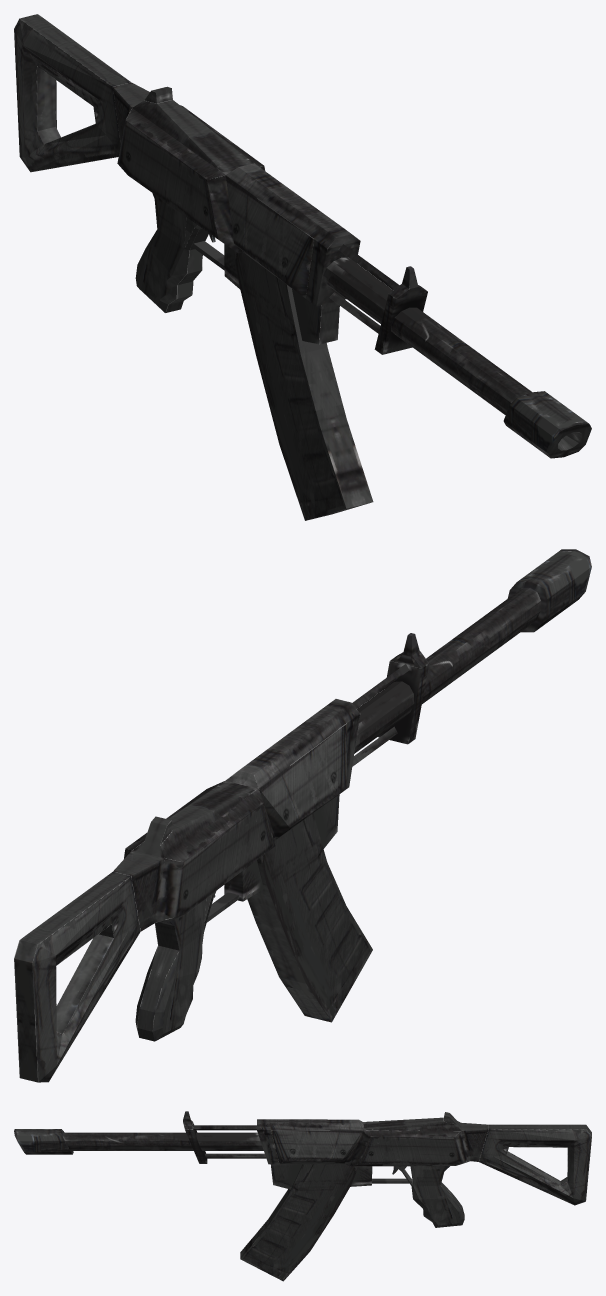
File: Automat.FBX
The picture shows the model from 3 angles, top to bottom: view 1: azimuth 30°, elevation 25°; view 2: azimuth 150°, elevation 25°; view 3: azimuth 270°, elevation 25°; orthographic projection. The views are drawn at different scales.
Parts seen in each view (by area): view 1: Automat; view 2: Automat; view 3: Automat.
Boxes of the visible parts, x1,y1,x2,y2 form: Automat: [14, 14, 591, 520]; Automat: [14, 549, 591, 1082]; Automat: [14, 1111, 591, 1281].
Size of the model in its own units: 22.29 by 118 by 372.
Materials: 1 (1 with a texture image).
